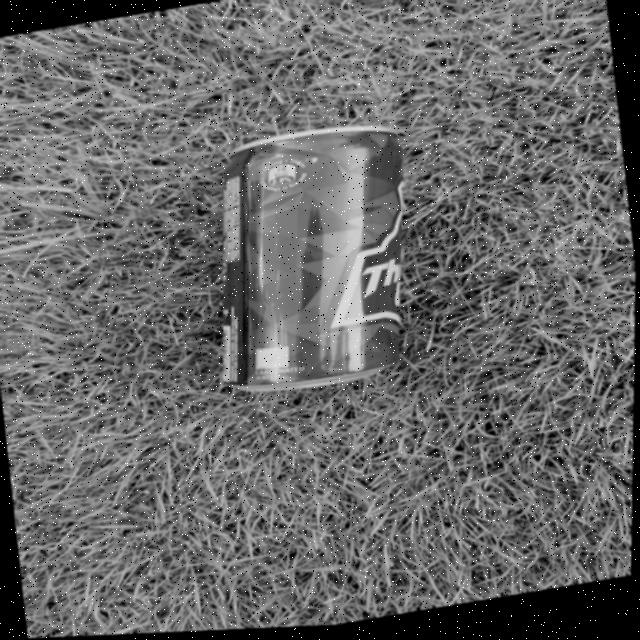Thums Up: (203, 115, 436, 405)
